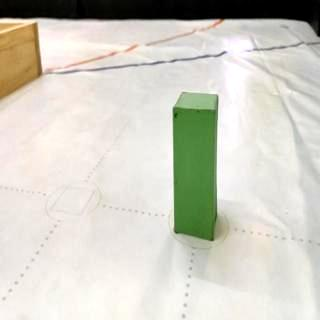greenbox: (172, 90, 224, 242)
